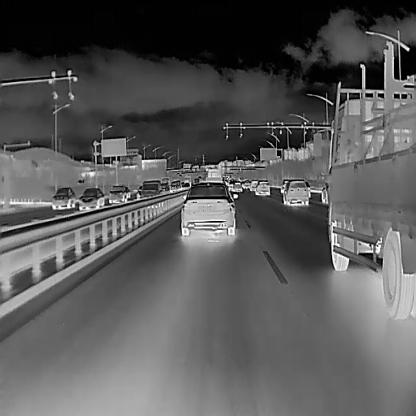car: (179, 181, 238, 236), (282, 178, 308, 207), (78, 187, 105, 212), (50, 184, 75, 209), (139, 177, 163, 202), (108, 183, 128, 204), (254, 179, 269, 195), (158, 176, 169, 192), (169, 180, 181, 194), (278, 177, 288, 193), (230, 182, 242, 192), (180, 180, 190, 192), (249, 180, 257, 190), (241, 180, 250, 188)
truck: (325, 81, 415, 320), (203, 166, 223, 188)
